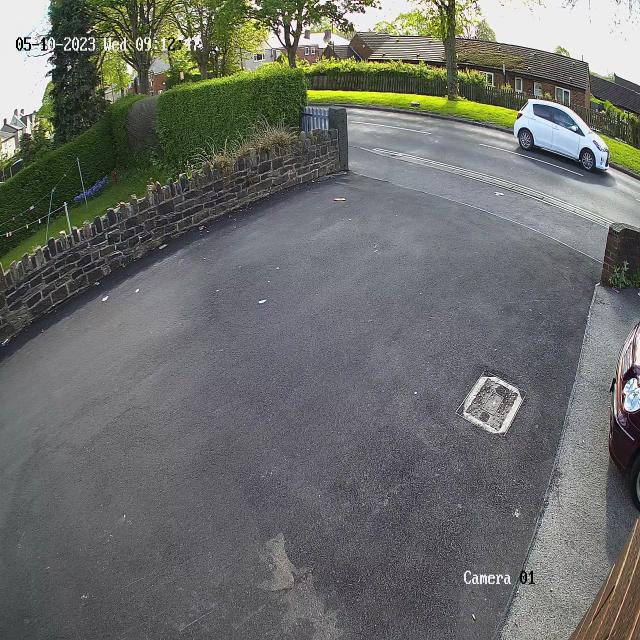vehicle: (514, 92, 611, 182)
